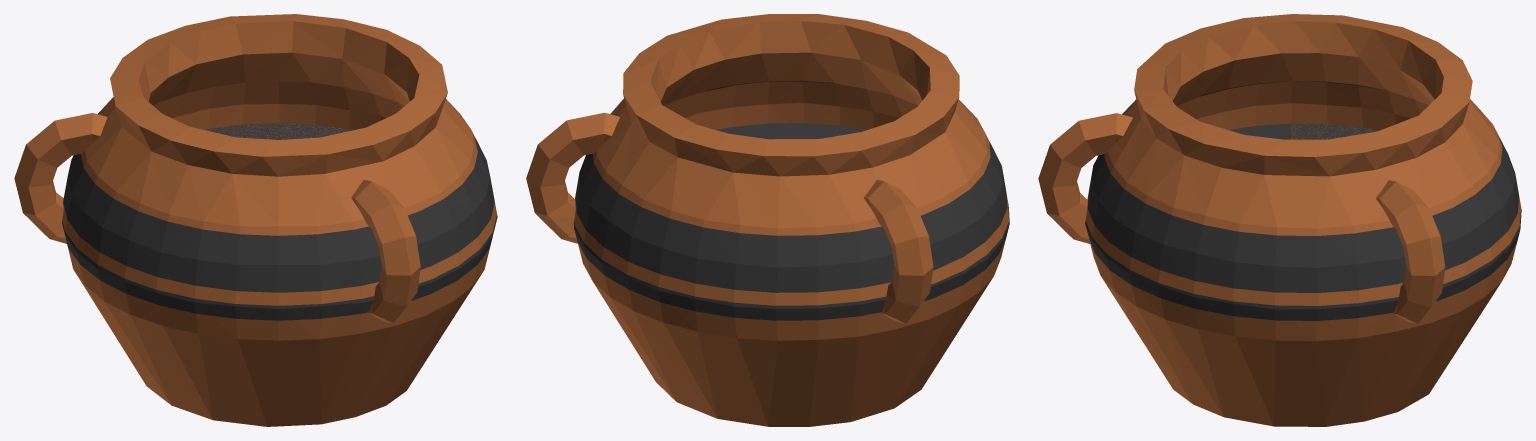
The model's file is Pottery 11_2.fbx.
The picture shows the model from 3 angles, left to right: view 1: azimuth 30°, elevation 25°; view 2: azimuth 150°, elevation 25°; view 3: azimuth 270°, elevation 25°; orthographic projection.
Visible parts, largest first — view 1: Pottery 11_2; view 2: Pottery 11_2; view 3: Pottery 11_2.
Part boxes in pixels (x1,y1,x2,y2): Pottery 11_2: (14, 14, 497, 426); Pottery 11_2: (526, 14, 1009, 426); Pottery 11_2: (1038, 14, 1521, 426).
Bounding box in the file's own units: 76.29 × 52.88 × 80.32.
